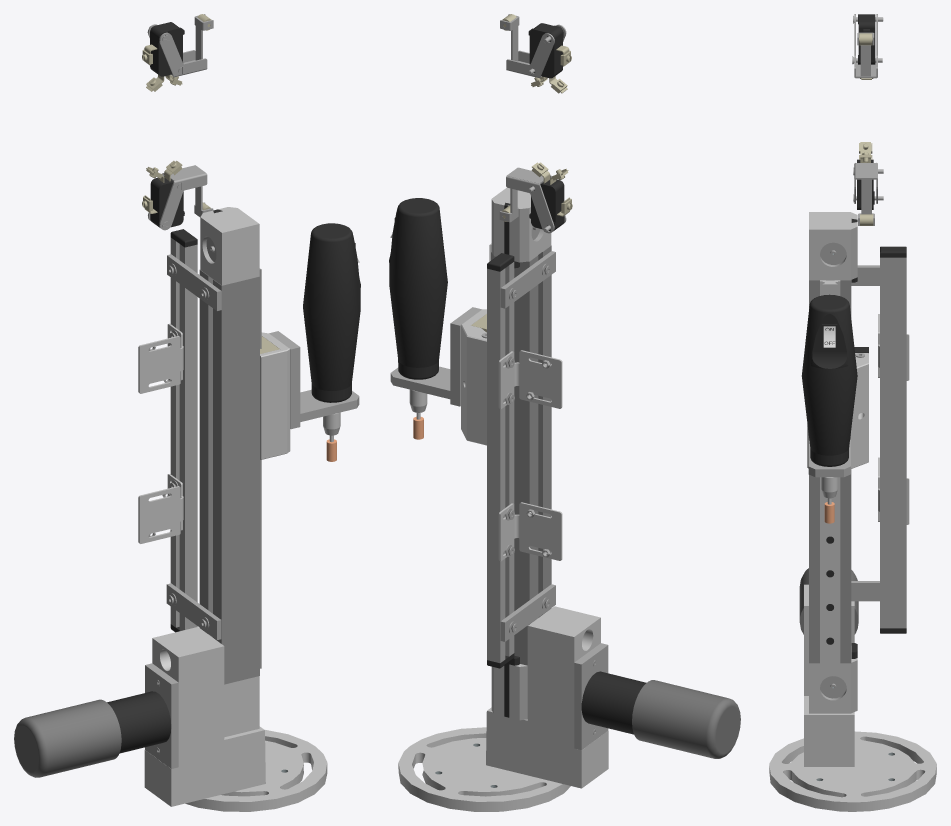
File: Bohrstation_neu1.fbx
The picture shows the model from 3 angles, left to right: view 1: azimuth 30°, elevation 25°; view 2: azimuth 150°, elevation 25°; view 3: azimuth 270°, elevation 25°; orthographic projection. The views are drawn at different scales.
Visible parts, largest first — view 1: Object_Linearantrieb_body3, et_1122_Bearbeiten_Bohrstation_Basis_body1, et_1135_Bearbeiten_Bohrstation_Antrieb_body2, hrer_Halterung_body5, hiene_Schalter_body1, et_1122_Bearbeiten_Bohrstation_Befestigung_body1, Object_Linearantrieb_body2, et_1131_Bearbeiten_Bohrstation_Schlitten_body3, l_Micoschalter_body1, l_Micoschalter_body1_2, lterung_Bohrer_body1, Object_Linearantrieb_body4 (+7 smaller); view 2: et_1122_Bearbeiten_Bohrstation_Basis_body1, Object_Linearantrieb_body3, et_1135_Bearbeiten_Bohrstation_Antrieb_body2, hrer_Halterung_body5, hiene_Schalter_body1, et_1122_Bearbeiten_Bohrstation_Befestigung_body1, et_1131_Bearbeiten_Bohrstation_Schlitten_body3, l_Micoschalter_body1, l_Micoschalter_body1_2, Object_Linearantrieb_body2, lterung_Bohrer_body1, et_1135_Bearbeiten_Bohrstation_Antrieb_body1 (+7 smaller); view 3: hiene_Schalter_body1, et_1122_Bearbeiten_Bohrstation_Befestigung_body1, hrer_Halterung_body5, Object_Linearantrieb_body3, ntrieb_Schiene_body1, et_1122_Bearbeiten_Bohrstation_Basis_body1, Object_Linearantrieb_body2, Object_Linearantrieb_body4, et_1131_Bearbeiten_Bohrstation_Schlitten_body3, lterung_Bohrer_body1, et_1134_Bearbeiten_Bohrstation_Verbindung_body1_2, Object_Microschalter_body1_2 (+8 smaller).
Boxes of the visible parts, x1,y1,x2,y2 form: Object_Linearantrieb_body3: [199, 270, 259, 684]; et_1122_Bearbeiten_Bohrstation_Basis_body1: [144, 627, 265, 806]; et_1135_Bearbeiten_Bohrstation_Antrieb_body2: [14, 691, 171, 777]; hrer_Halterung_body5: [303, 223, 360, 402]; hiene_Schalter_body1: [170, 237, 197, 630]; et_1122_Bearbeiten_Bohrstation_Befestigung_body1: [185, 730, 327, 811]; Object_Linearantrieb_body2: [200, 207, 259, 285]; et_1131_Bearbeiten_Bohrstation_Schlitten_body3: [260, 332, 290, 459]; l_Micoschalter_body1: [138, 323, 183, 393]; l_Micoschalter_body1_2: [138, 474, 183, 543]; lterung_Bohrer_body1: [269, 331, 359, 429]; Object_Linearantrieb_body4: [224, 676, 259, 737]; et_1122_Bearbeiten_Bohrstation_Basis_body1: [486, 606, 608, 788]; Object_Linearantrieb_body3: [491, 245, 551, 665]; et_1135_Bearbeiten_Bohrstation_Antrieb_body2: [581, 671, 740, 758]; hrer_Halterung_body5: [389, 198, 447, 379]; hiene_Schalter_body1: [487, 262, 514, 662]; et_1122_Bearbeiten_Bohrstation_Befestigung_body1: [398, 727, 570, 811]; et_1131_Bearbeiten_Bohrstation_Schlitten_body3: [461, 309, 486, 445]; l_Micoschalter_body1: [498, 350, 562, 408]; l_Micoschalter_body1_2: [498, 502, 562, 561]; Object_Linearantrieb_body2: [491, 187, 551, 262]; lterung_Bohrer_body1: [390, 307, 481, 406]; et_1135_Bearbeiten_Bohrstation_Antrieb_body1: [574, 643, 608, 749]; hiene_Schalter_body1: [880, 257, 906, 628]; et_1122_Bearbeiten_Bohrstation_Befestigung_body1: [769, 731, 936, 811]; hrer_Halterung_body5: [801, 294, 857, 466]; Object_Linearantrieb_body3: [809, 280, 851, 663]; ntrieb_Schiene_body1: [820, 280, 840, 667]; et_1122_Bearbeiten_Bohrstation_Basis_body1: [804, 584, 854, 766]; Object_Linearantrieb_body2: [809, 212, 857, 279]; Object_Linearantrieb_body4: [809, 646, 857, 713]; et_1131_Bearbeiten_Bohrstation_Schlitten_body3: [807, 353, 868, 468]; lterung_Bohrer_body1: [808, 433, 850, 477]; et_1134_Bearbeiten_Bohrstation_Verbindung_body1_2: [851, 581, 879, 601]; Object_Microschalter_body1_2: [858, 14, 875, 79].
Size of the model in its own units: 21.63 by 47.6 by 9.91.
